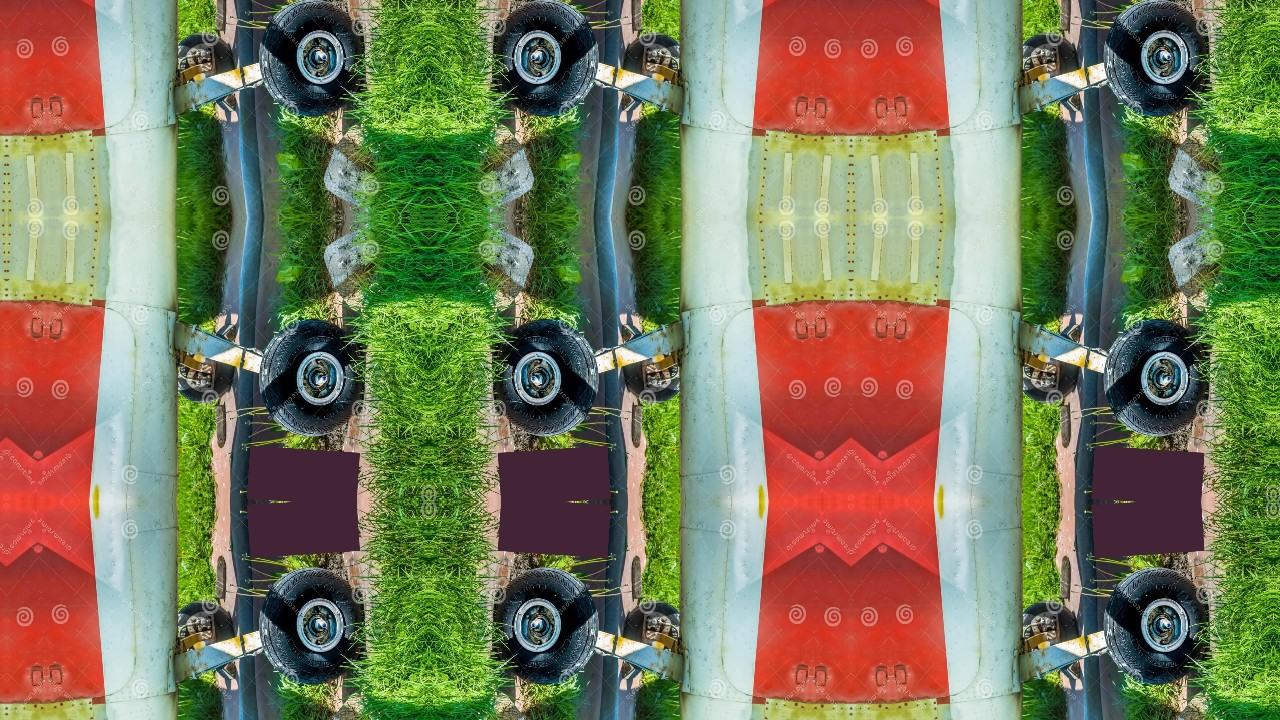chock: (314, 223, 379, 313), (478, 223, 543, 313), (1159, 223, 1224, 313), (314, 123, 379, 212), (478, 123, 543, 212), (1159, 123, 1224, 212), (300, 447, 363, 502), (494, 447, 557, 502), (1145, 447, 1208, 502), (300, 502, 363, 557), (494, 502, 557, 557), (1145, 502, 1208, 557), (314, 691, 379, 720), (478, 691, 543, 720), (1159, 691, 1224, 720), (211, 322, 238, 344), (620, 322, 647, 344), (1056, 322, 1083, 344), (211, 660, 238, 682), (620, 660, 647, 682), (1056, 660, 1083, 682), (211, 92, 238, 113), (620, 92, 647, 113), (1056, 92, 1083, 113)
wheel: (492, 315, 602, 438), (492, 566, 602, 689), (256, 315, 365, 438), (1101, 315, 1210, 438), (256, 566, 365, 689), (1101, 566, 1210, 689), (492, 0, 602, 121), (256, 0, 365, 121), (1101, 0, 1210, 121), (176, 357, 233, 404), (625, 357, 682, 404), (1021, 357, 1078, 404), (176, 600, 233, 647), (625, 600, 682, 647), (1021, 600, 1078, 647), (176, 32, 233, 78), (625, 32, 682, 78), (1021, 32, 1078, 78)
